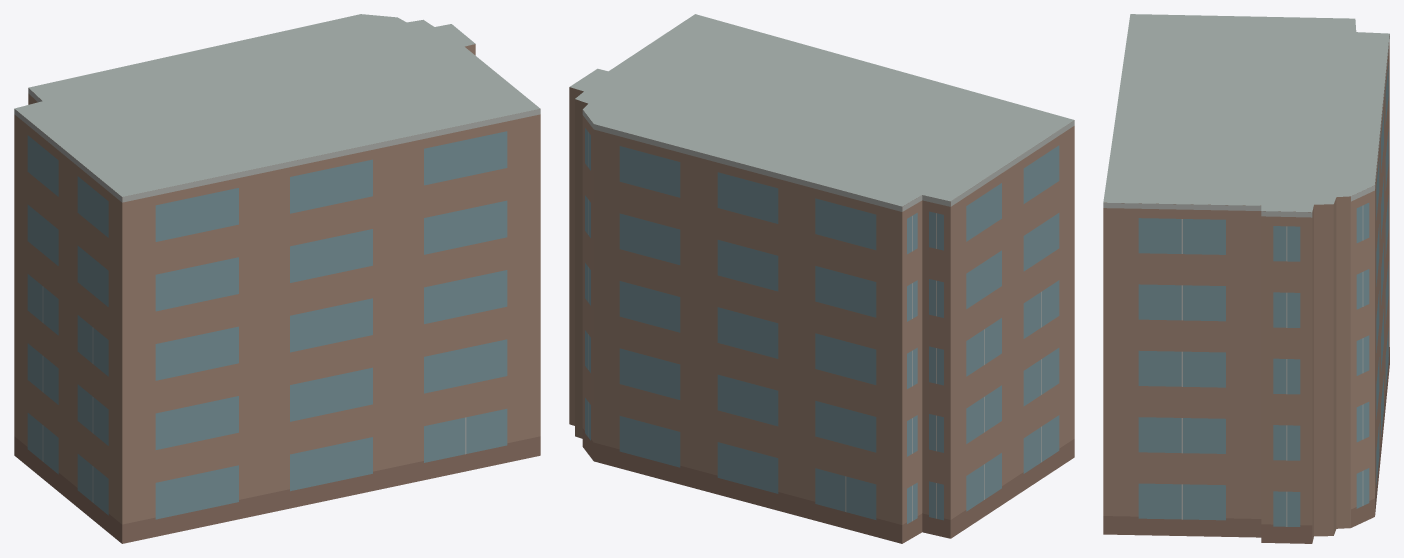
File: survey-upis-32645496.glb
3 views of the same model, side by side, from view 1: azimuth 30°, elevation 25°; view 2: azimuth 150°, elevation 25°; view 3: azimuth 270°, elevation 25° (orthographic). The views are drawn at different scales.
Parts seen in each view (by area): view 1: survey-upis-32645496.tmp; view 2: survey-upis-32645496.tmp; view 3: survey-upis-32645496.tmp.
Boxes of the visible parts, x1,y1,x2,y2 form: survey-upis-32645496.tmp: [14, 14, 540, 543]; survey-upis-32645496.tmp: [569, 14, 1074, 543]; survey-upis-32645496.tmp: [1103, 14, 1389, 543].
Size of the model in its own units: 19.35 by 15.1 by 11.83.
